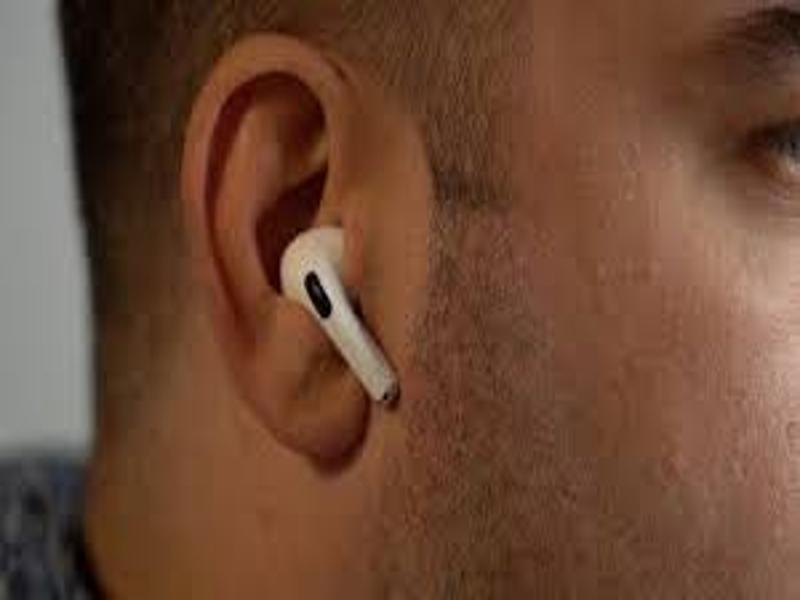headphone: (276, 218, 411, 410)
